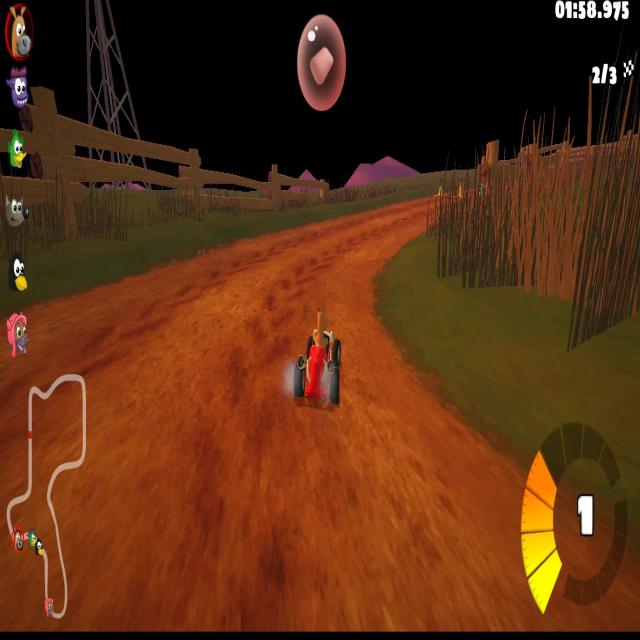off_track: (444, 201, 640, 402), (95, 141, 310, 227)
player_kart: (297, 319, 342, 408)
track: (70, 308, 290, 542), (310, 206, 429, 241)
